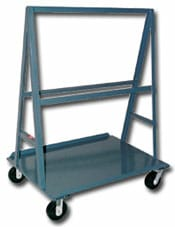Carts: (5, 5, 171, 221)
